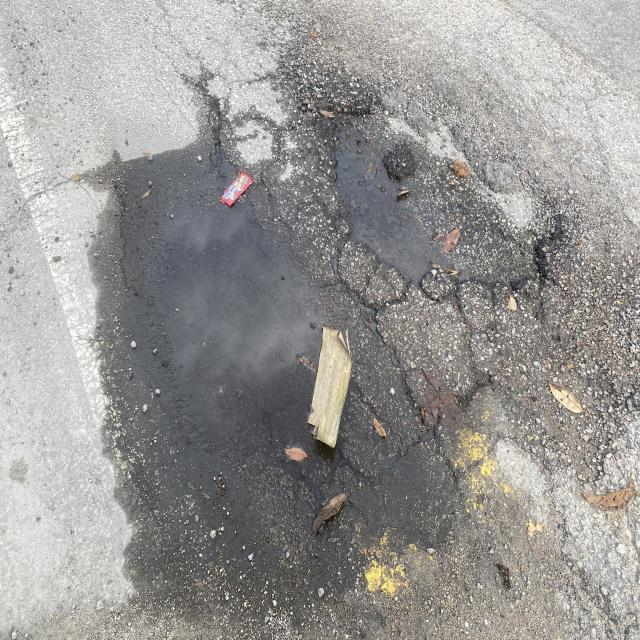Pothole: (177, 77, 432, 560), (317, 42, 603, 310)
